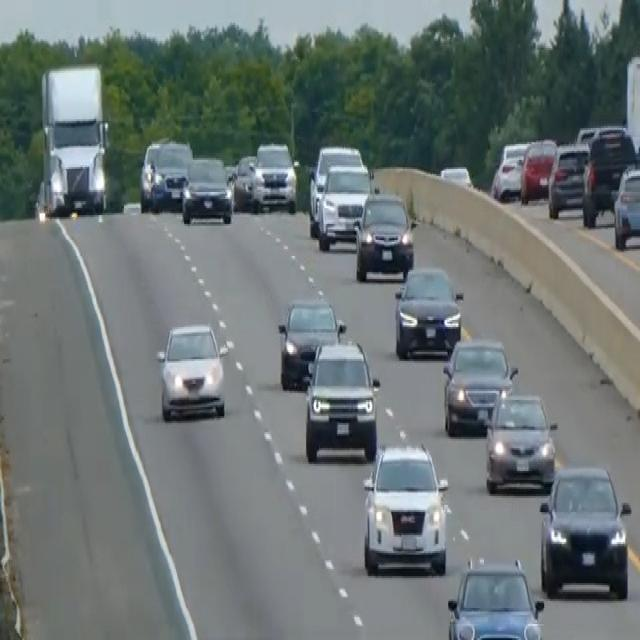car: (538, 462, 631, 599), (303, 336, 380, 462), (446, 556, 544, 638), (441, 334, 517, 436), (484, 390, 558, 492), (155, 320, 227, 421), (393, 263, 463, 357), (277, 295, 346, 389), (581, 126, 637, 226), (353, 190, 414, 281), (307, 142, 363, 235), (316, 160, 374, 249), (181, 153, 233, 224), (547, 138, 590, 218), (253, 139, 297, 213), (150, 137, 192, 210), (519, 137, 557, 203), (612, 160, 639, 249), (138, 137, 165, 210), (491, 151, 522, 201), (231, 153, 257, 210), (439, 164, 472, 188), (500, 138, 530, 164)
jeep: (360, 436, 450, 576)
lorry: (36, 60, 111, 218)
